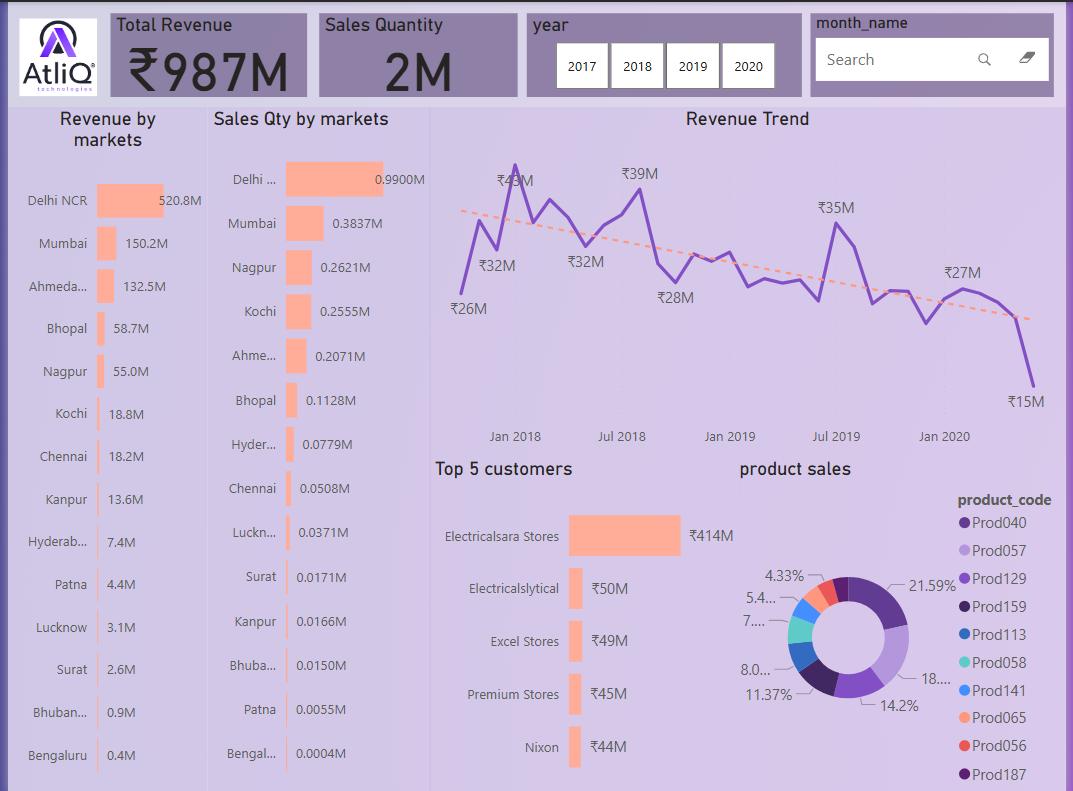

Layout of this report page (visuals, bound fields, positions):
{"tool":"powerbi","page":{"name":"Duplicate of Page 1","canvas":[960,720],"ordinal":1},"visuals":[{"type":"card","fields":{"Values":["BaseMeasures.Revenue"]},"box":[0,0,196.4,95.3],"z":0},{"type":"card","fields":{"Values":["BaseMeasures.Sales Qty"]},"box":[196.4,1.1,186,94.2],"z":1000},{"type":"barChart","title":"Revenue by markets","fields":{"Y":["BaseMeasures.Revenue"],"Category":["sales markets.markets_name"]},"box":[0,104.5,196.4,615.7],"z":2000},{"type":"barChart","title":"Sales Qty by markets","fields":{"Y":["BaseMeasures.Sales Qty"],"Category":["sales markets.markets_name"]},"box":[196.4,104.5,187.2,615.7],"z":3000},{"type":"slicer","fields":{"Values":["sales date.year"]},"box":[383.7,1.1,248.1,63.2],"z":4000},{"type":"slicer","fields":{"Values":["sales date.cy_date"]},"box":[631.8,1.1,328.5,63.2],"z":5000},{"type":"barChart","title":"Top 5 customers","fields":{"Category":["sales customers.custmer_name"],"Y":["BaseMeasures.Revenue"]},"box":[383.8,412.5,300,307.5],"z":6000},{"type":"barChart","title":"Top 5 products","fields":{"Y":["BaseMeasures.Revenue"],"Category":["sales products.product_code"]},"box":[683.8,412.5,276.2,307.5],"z":7000},{"type":"lineChart","title":"Revenue Trend","fields":{"Y":["BaseMeasures.Revenue"],"Category":["sales date.cy_date.Variation.Date Hierarchy.Year","sales date.cy_date.Variation.Date Hierarchy.Quarter","sales date.cy_date.Variation.Date Hierarchy.Month","sales date.cy_date.Variation.Date Hierarchy.Day"]},"box":[382.5,95,577.5,317.5],"z":8000}]}

Visuals, with their boxes in screenshot pixels (x1, y1, x2, y2), scaled from the page's 960x720 canvas onto the 1073x791 screenshot:
card - BaseMeasures.Revenue: <region>0, 0, 220, 105</region>
card - BaseMeasures.Sales Qty: <region>220, 1, 427, 105</region>
"Revenue by markets" barChart: <region>0, 115, 220, 790</region>
"Sales Qty by markets" barChart: <region>220, 115, 429, 790</region>
slicer - sales date.year: <region>429, 1, 706, 71</region>
slicer - sales date.cy_date: <region>706, 1, 1072, 71</region>
"Top 5 customers" barChart: <region>429, 453, 764, 790</region>
"Top 5 products" barChart: <region>764, 453, 1072, 790</region>
"Revenue Trend" lineChart: <region>428, 104, 1072, 453</region>
